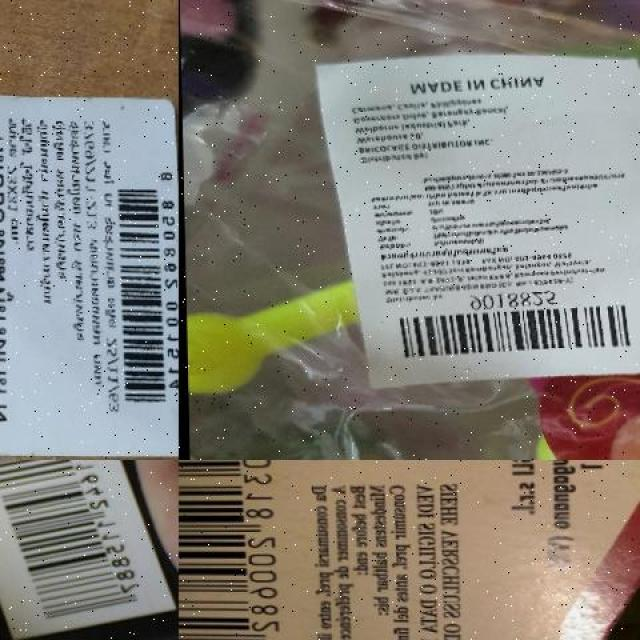Barcode: (0, 460, 173, 640), (178, 460, 302, 640), (377, 289, 640, 364), (107, 148, 177, 415)
